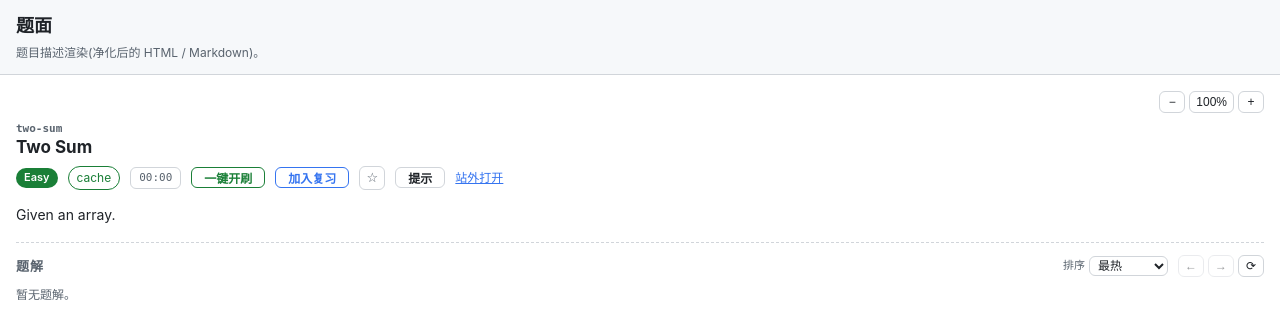
problem-view favorite star (WP73) › rolls back with 请先登录 on 401 auth-expired
Click the button with class "statement-header__fav": (372, 178) x1=359 y1=166 x2=385 y2=190
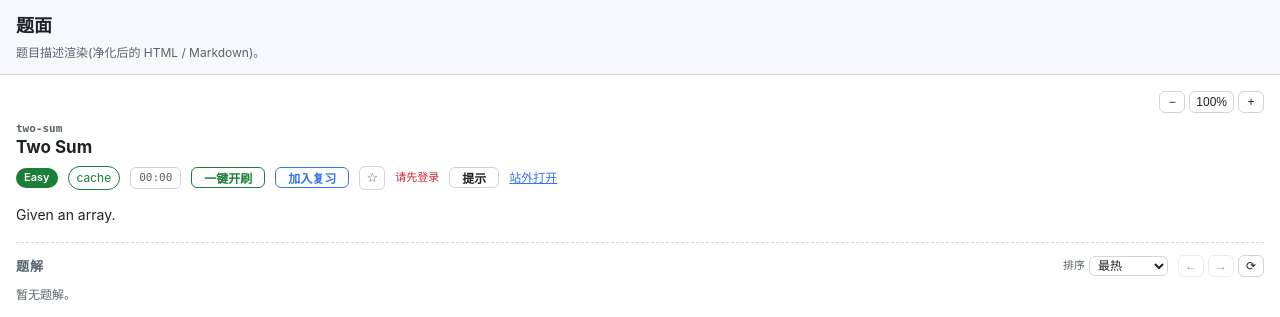
Check: the message "请先登录" is shown, box x1=395 y1=169 x2=439 y2=187
